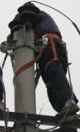boots: (0, 121, 11, 132), (0, 125, 11, 132)
gloves: (17, 1, 40, 14)
hard-hat: (0, 30, 14, 48)
ppe-suit: (13, 9, 77, 121)
